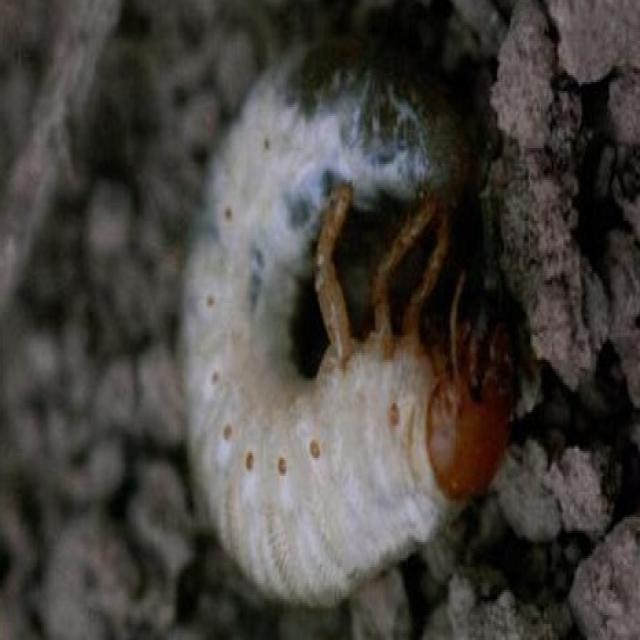grub: (190, 35, 502, 614)
